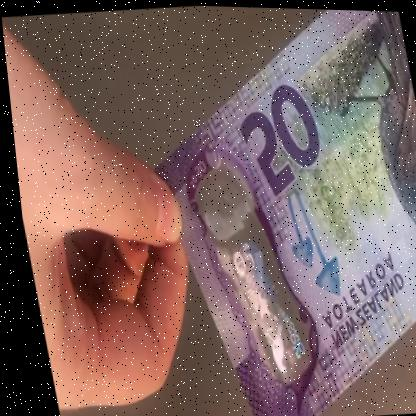50B: (186, 161, 303, 381)
